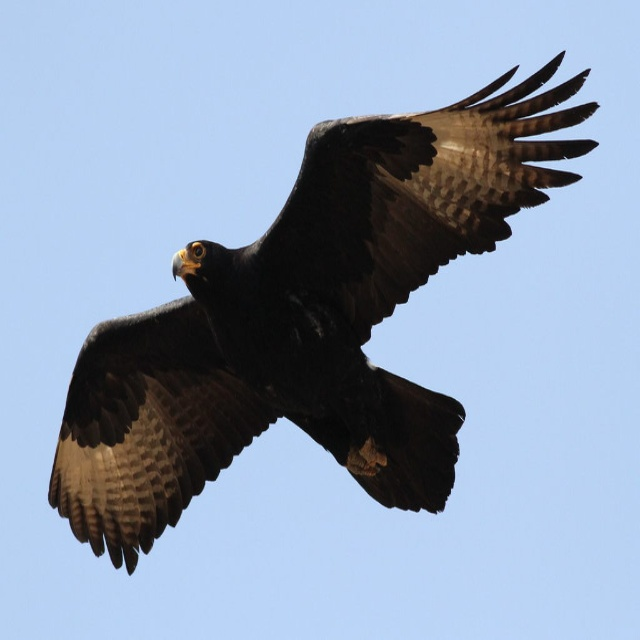Eagle: (48, 49, 601, 576)
